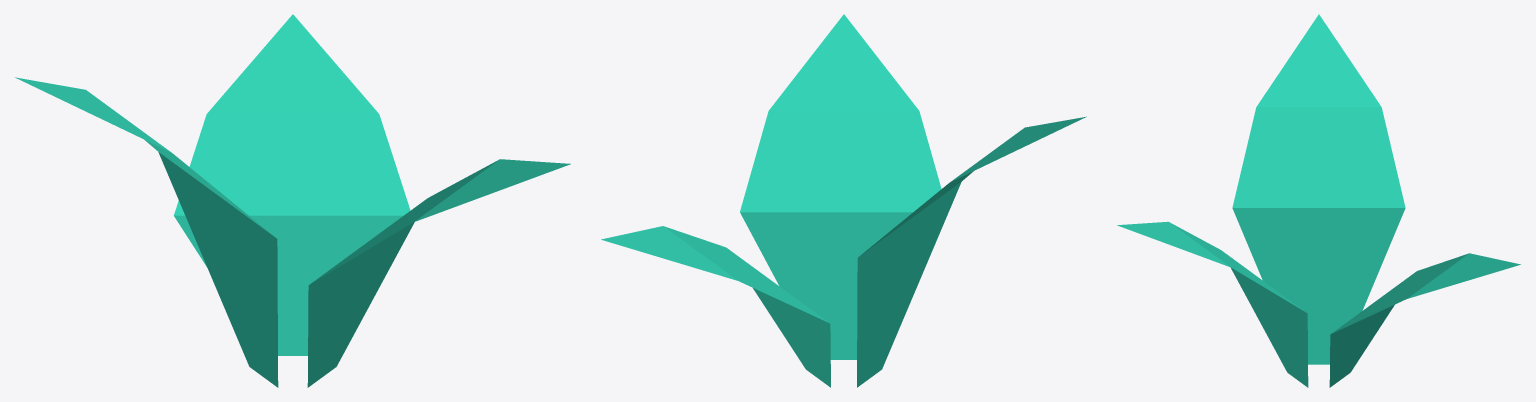
File: plant_bushTriangle.dae
3 views of the same model, side by side, from view 1: azimuth 30°, elevation 25°; view 2: azimuth 150°, elevation 25°; view 3: azimuth 270°, elevation 25° (orthographic). The views are drawn at different scales.
Visible parts, largest first — view 1: plant_bushTriangle; view 2: plant_bushTriangle; view 3: plant_bushTriangle.
Boxes of the visible parts, x1,y1,x2,y2 form: plant_bushTriangle: (15, 14, 570, 387); plant_bushTriangle: (601, 14, 1086, 387); plant_bushTriangle: (1117, 14, 1520, 387).
Size of the model in its own units: 0.3644 by 0.2955 by 0.4136.
